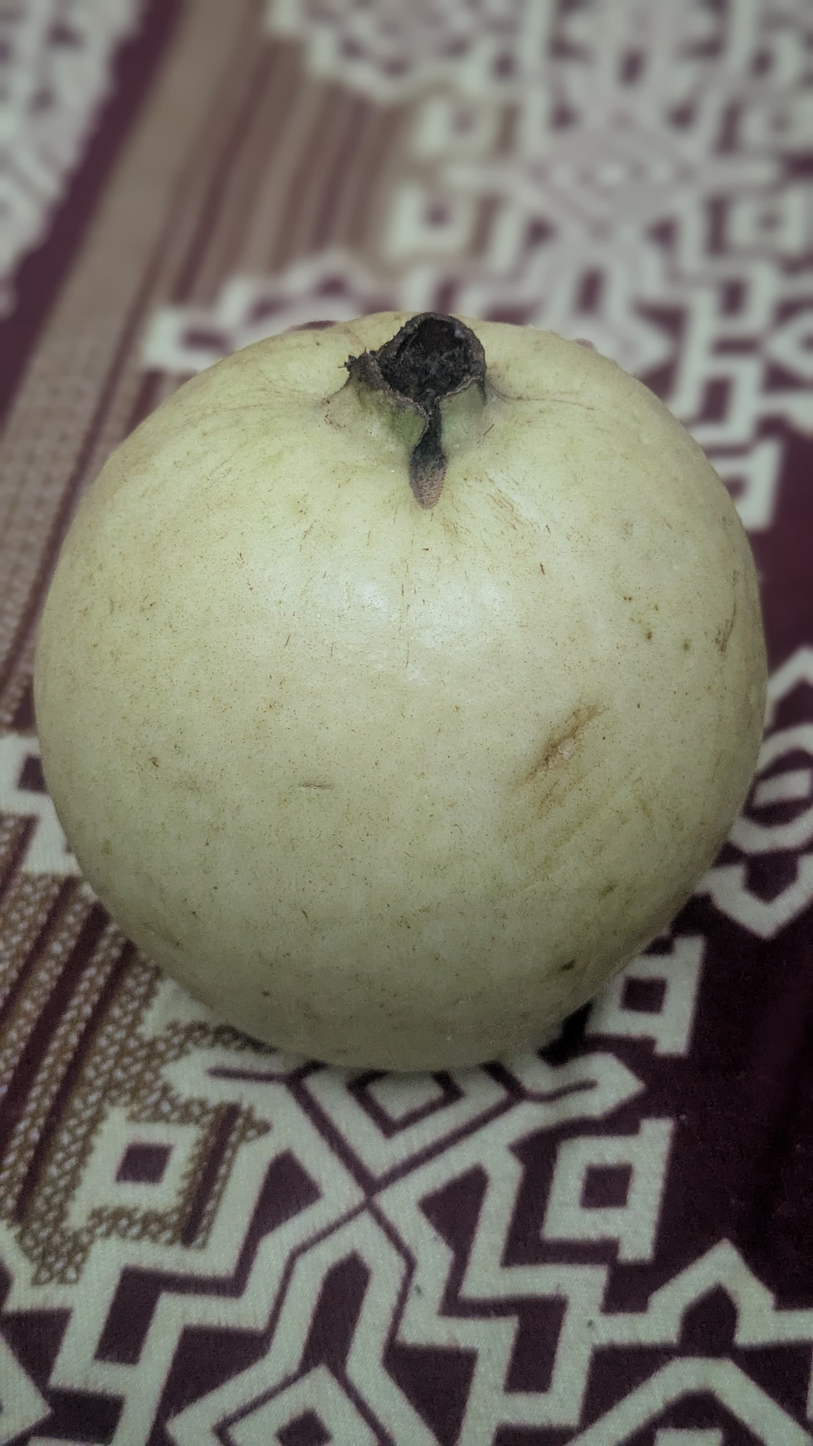guava: (151, 48, 649, 1327)
